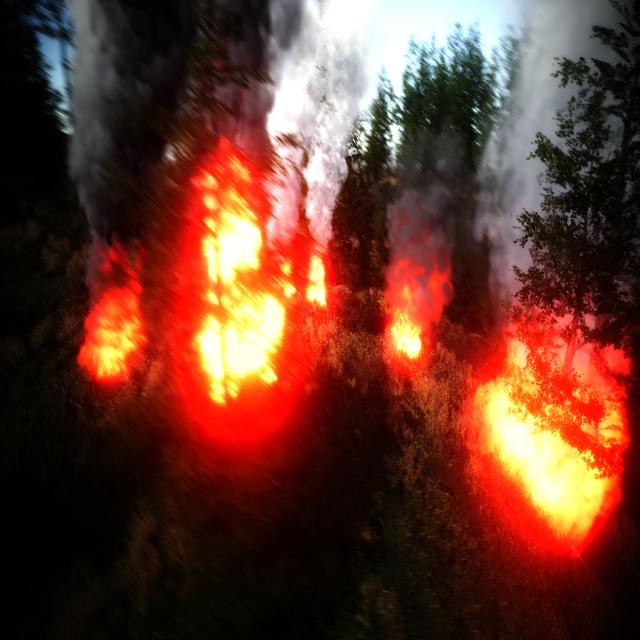Human: (306, 296, 320, 338)
